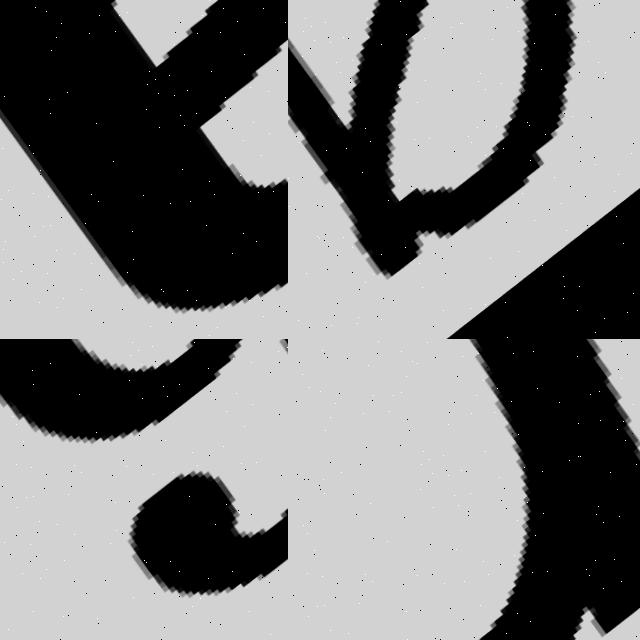6: (0, 339, 288, 640)
A: (0, 0, 288, 339)
Q: (288, 0, 640, 339)
R: (288, 339, 640, 640)
